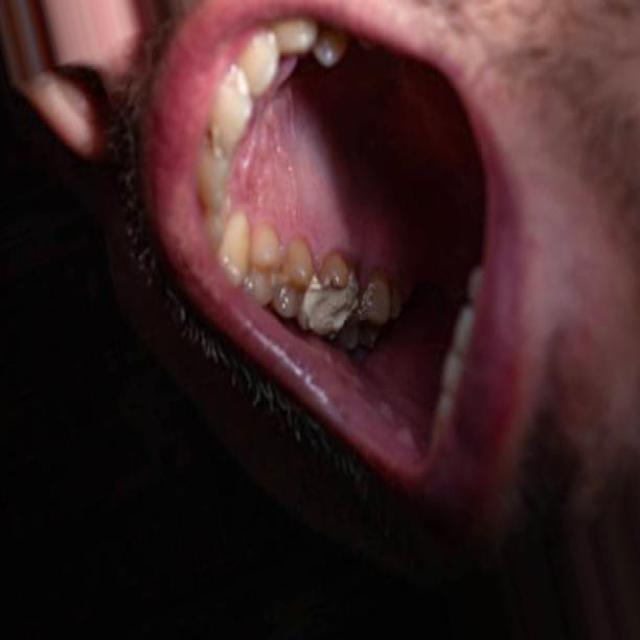caries: (300, 255, 364, 342)
